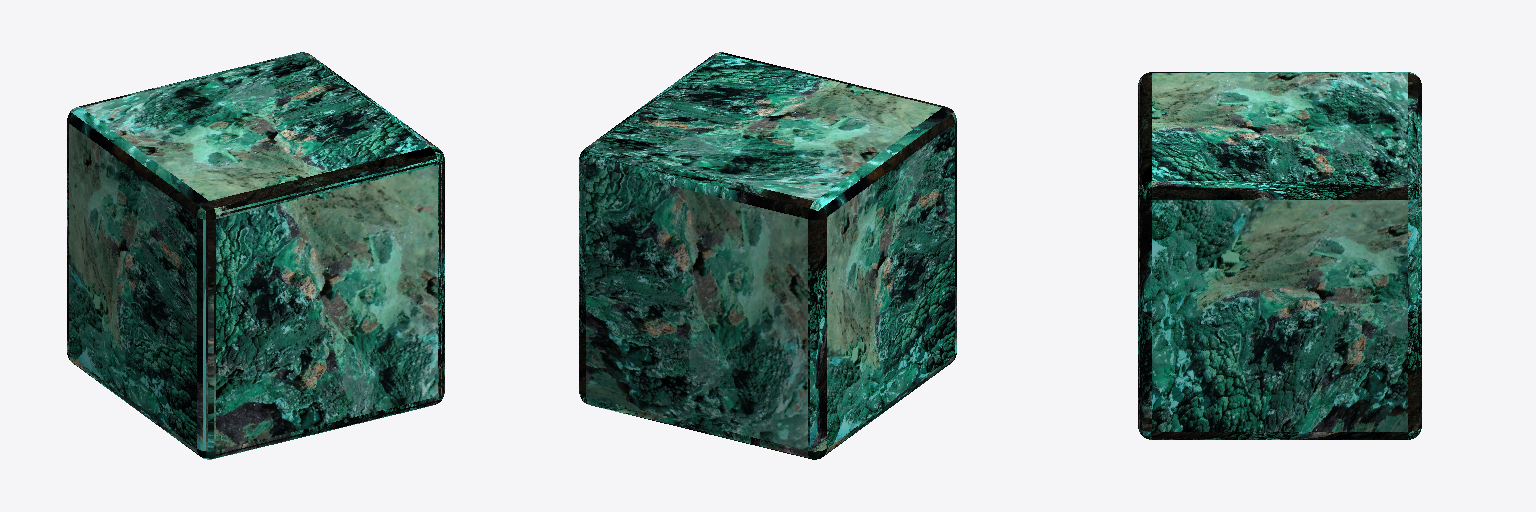
The picture shows the model from 3 angles: view 1: azimuth 30°, elevation 25°; view 2: azimuth 150°, elevation 25°; view 3: azimuth 270°, elevation 25°; orthographic projection.
Visible parts, largest first — view 1: Cube; view 2: Cube; view 3: Cube.
Part boxes in pixels (left/top/right/bottom): Cube: left=67, top=52, right=444, bottom=459; Cube: left=579, top=52, right=956, bottom=459; Cube: left=1138, top=72, right=1421, bottom=439.
Bounding box in the file's own units: 2 × 2 × 2.
1 materials, 1 textured.